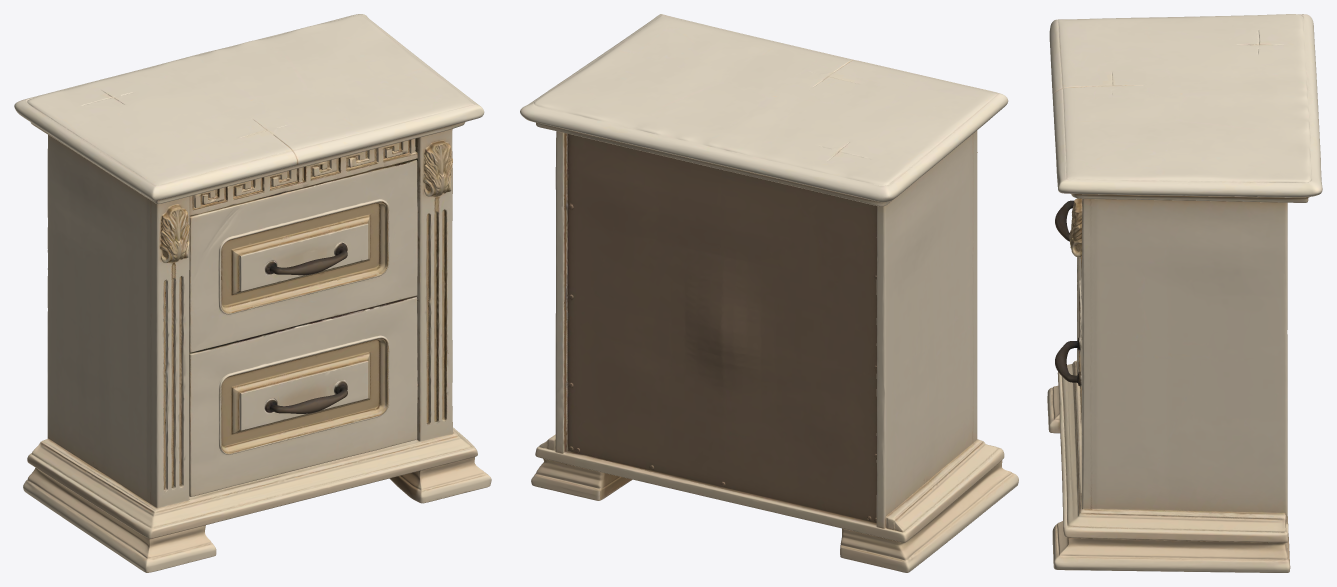
File: No Name-05.glb
The picture shows the model from 3 angles, left to right: view 1: azimuth 30°, elevation 25°; view 2: azimuth 150°, elevation 25°; view 3: azimuth 270°, elevation 25°; orthographic projection. The views are drawn at different scales.
Parts seen in each view (by area): view 1: tripo_node_f12f9b6c-ee1a-466c-b726-754dc2c052fc; view 2: tripo_node_f12f9b6c-ee1a-466c-b726-754dc2c052fc; view 3: tripo_node_f12f9b6c-ee1a-466c-b726-754dc2c052fc.
Part boxes in pixels (left/top/right/bottom): tripo_node_f12f9b6c-ee1a-466c-b726-754dc2c052fc: left=14, top=14, right=491, bottom=572; tripo_node_f12f9b6c-ee1a-466c-b726-754dc2c052fc: left=520, top=14, right=1018, bottom=572; tripo_node_f12f9b6c-ee1a-466c-b726-754dc2c052fc: left=1047, top=14, right=1322, bottom=572.
Size of the model in its own units: 0.9715 by 0.9793 by 0.6277.
1 material, 1 textured.
